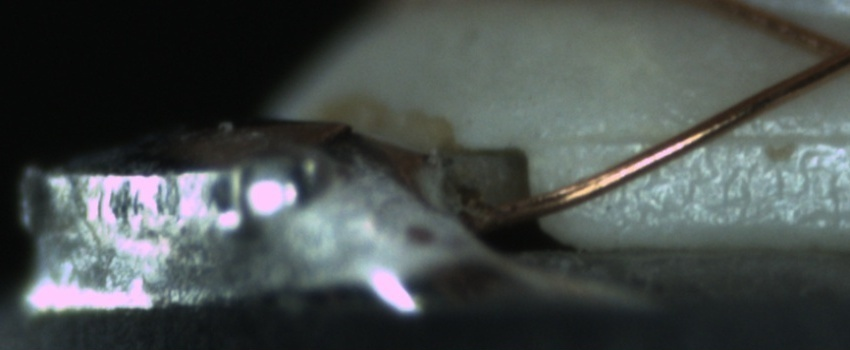CL: (796, 20, 850, 80)
DL: (550, 104, 847, 170)
